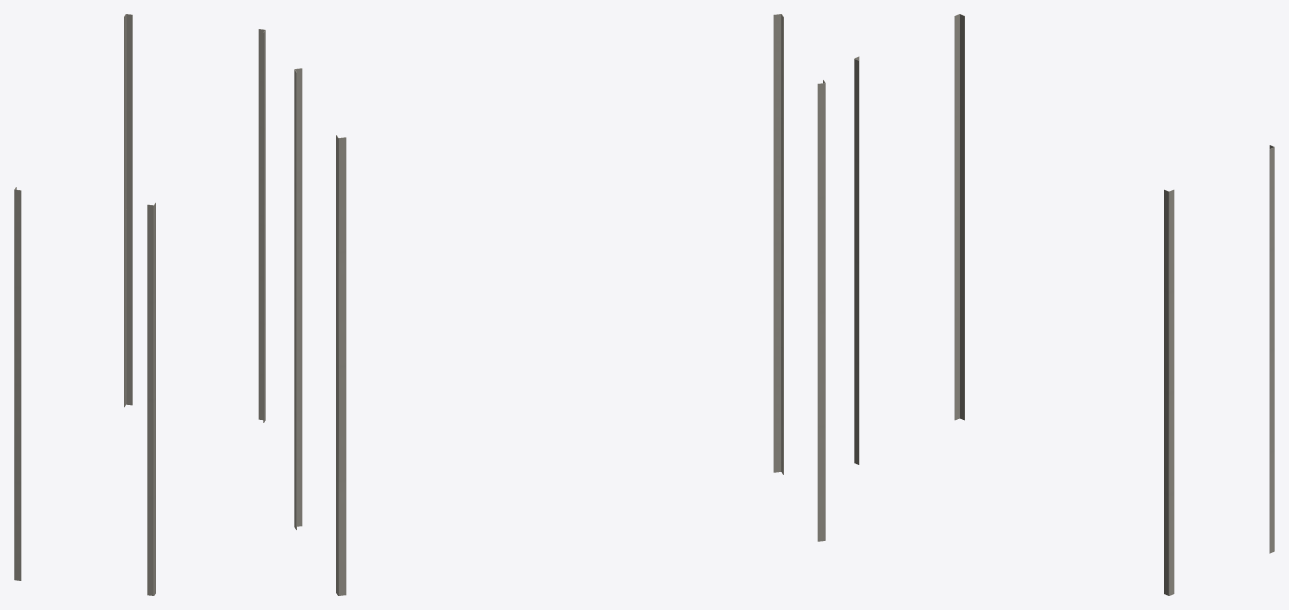
File: shelf_0301_t50_h1200_w1200.glb
The picture shows the model from 3 angles, left to right: view 1: azimuth 30°, elevation 25°; view 2: azimuth 150°, elevation 25°; view 3: azimuth 270°, elevation 25°; orthographic projection. The views are drawn at different scales.
Parts seen in each view (by area): view 1: shelf_0301_t50_h1200_w1200; view 2: shelf_0301_t50_h1200_w1200; view 3: shelf_0301_t50_h1200_w1200.
Part boxes in pixels (<box>): shelf_0301_t50_h1200_w1200: <box>14,14,265,595</box>; shelf_0301_t50_h1200_w1200: <box>294,14,825,595</box>; shelf_0301_t50_h1200_w1200: <box>854,14,1274,595</box>.
Size of the model in its own units: 1.13 by 1.2 by 1.13.
1 material, 1 textured.
